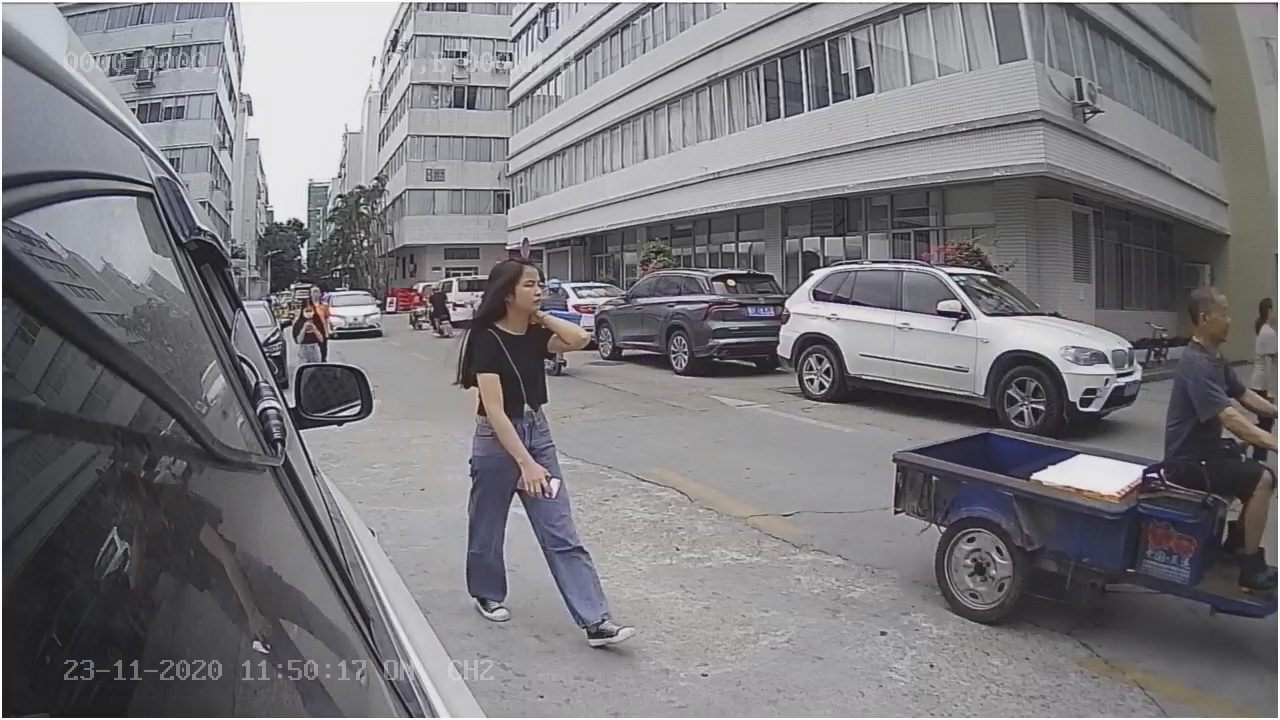person: (457, 253, 641, 649)
